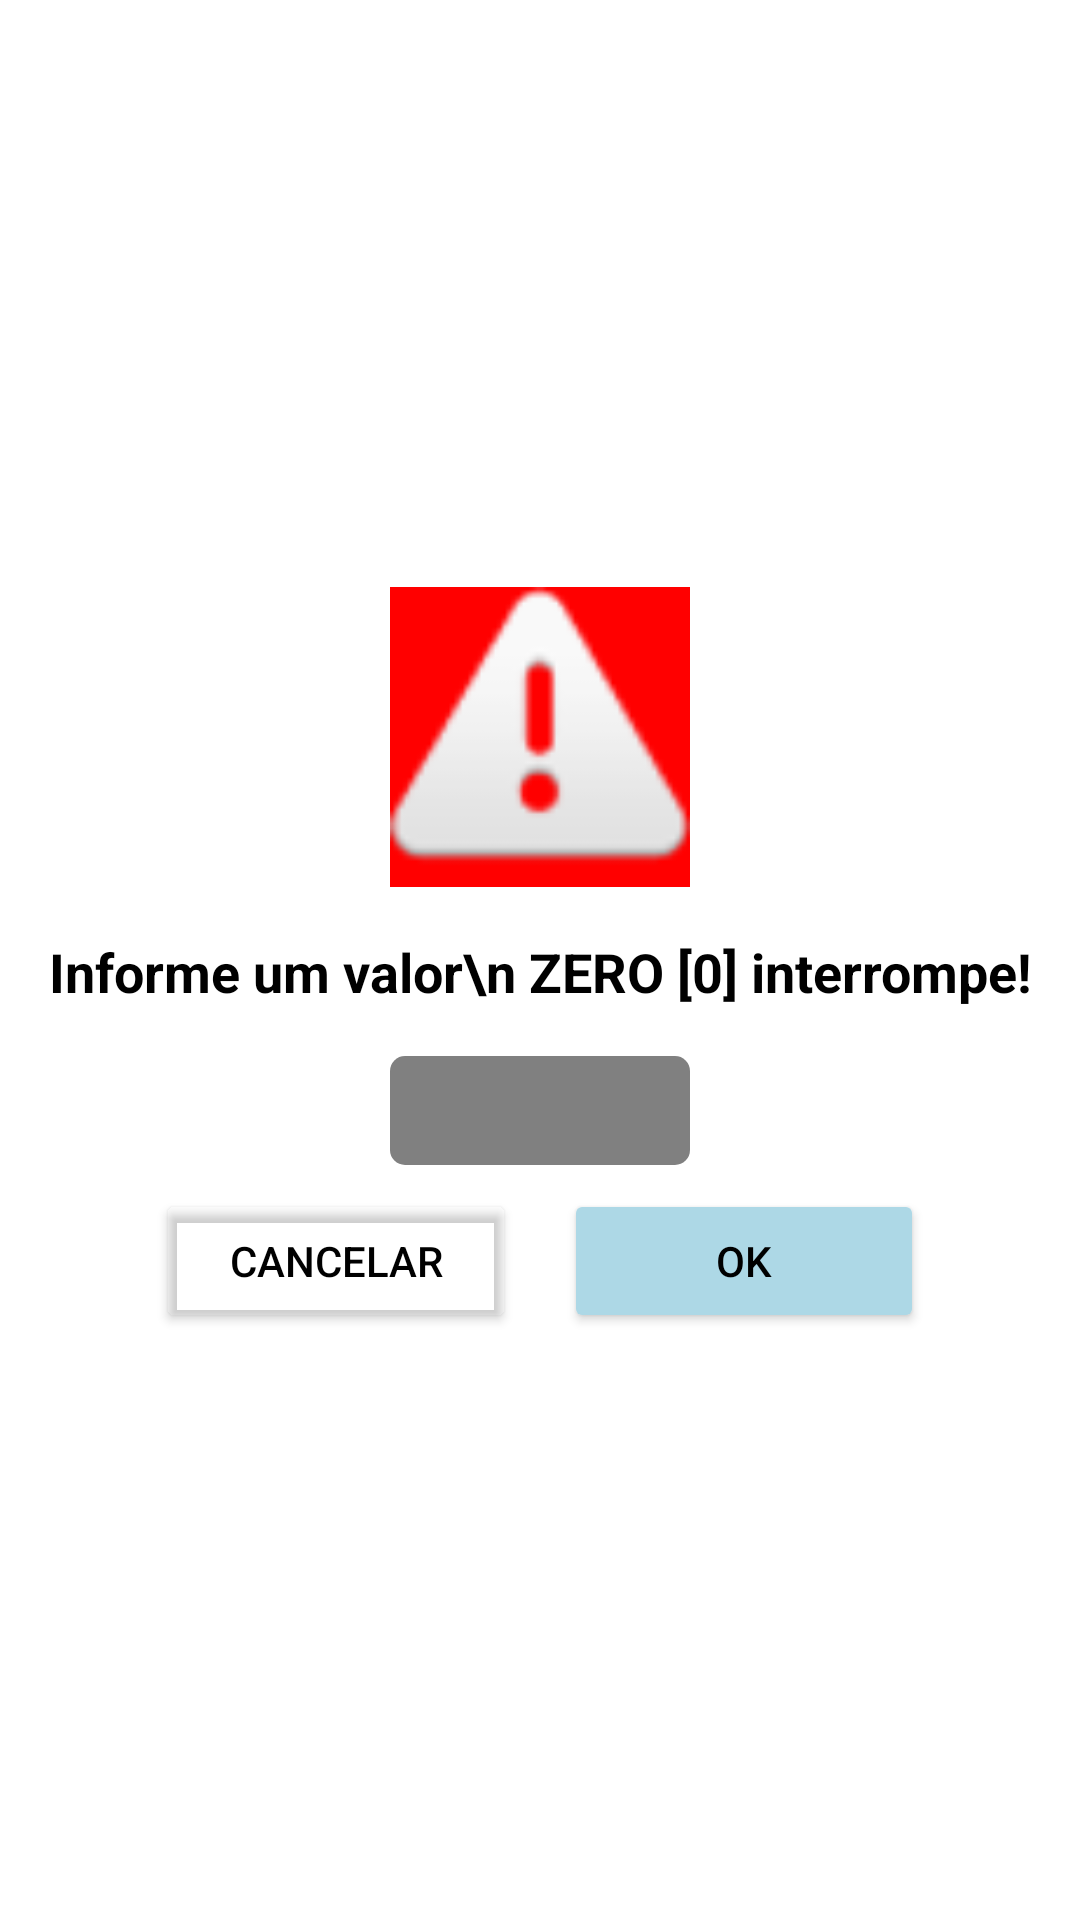

Where to tap for icons on this 1080 x 1920 app screen, as point (x, y):
alert: point (540, 737)
